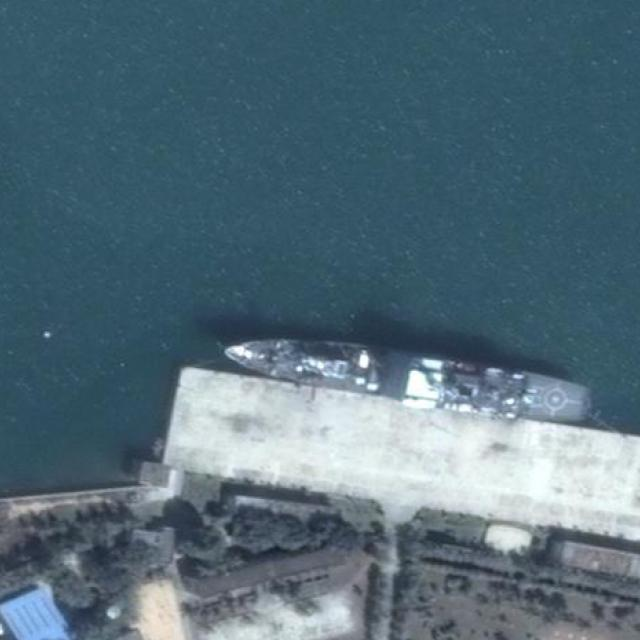Landing: (219, 327, 593, 429)
